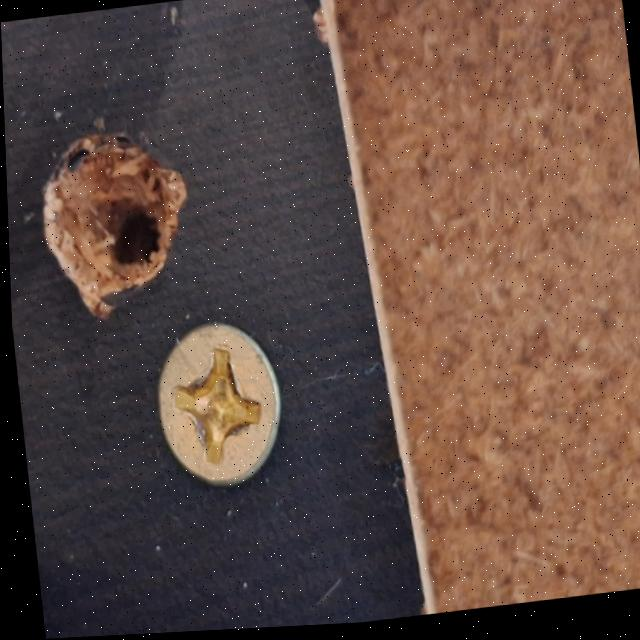Phillips: (134, 302, 305, 502)
